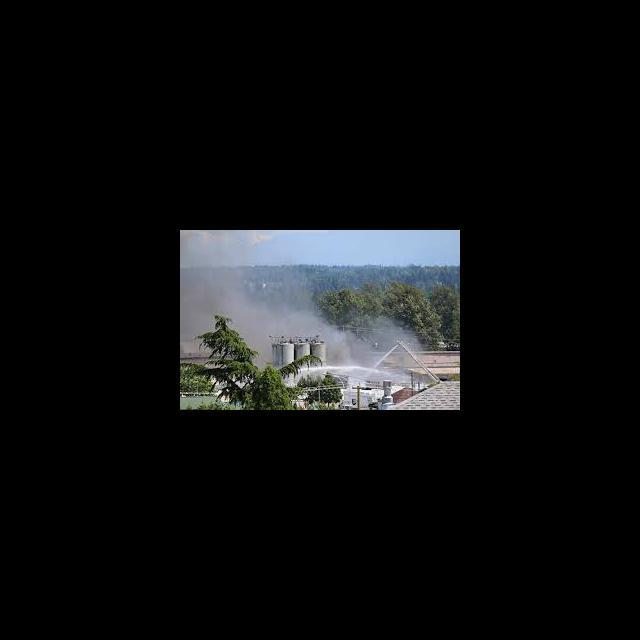Smoke: (180, 234, 270, 354), (330, 332, 373, 365), (273, 308, 326, 334)
